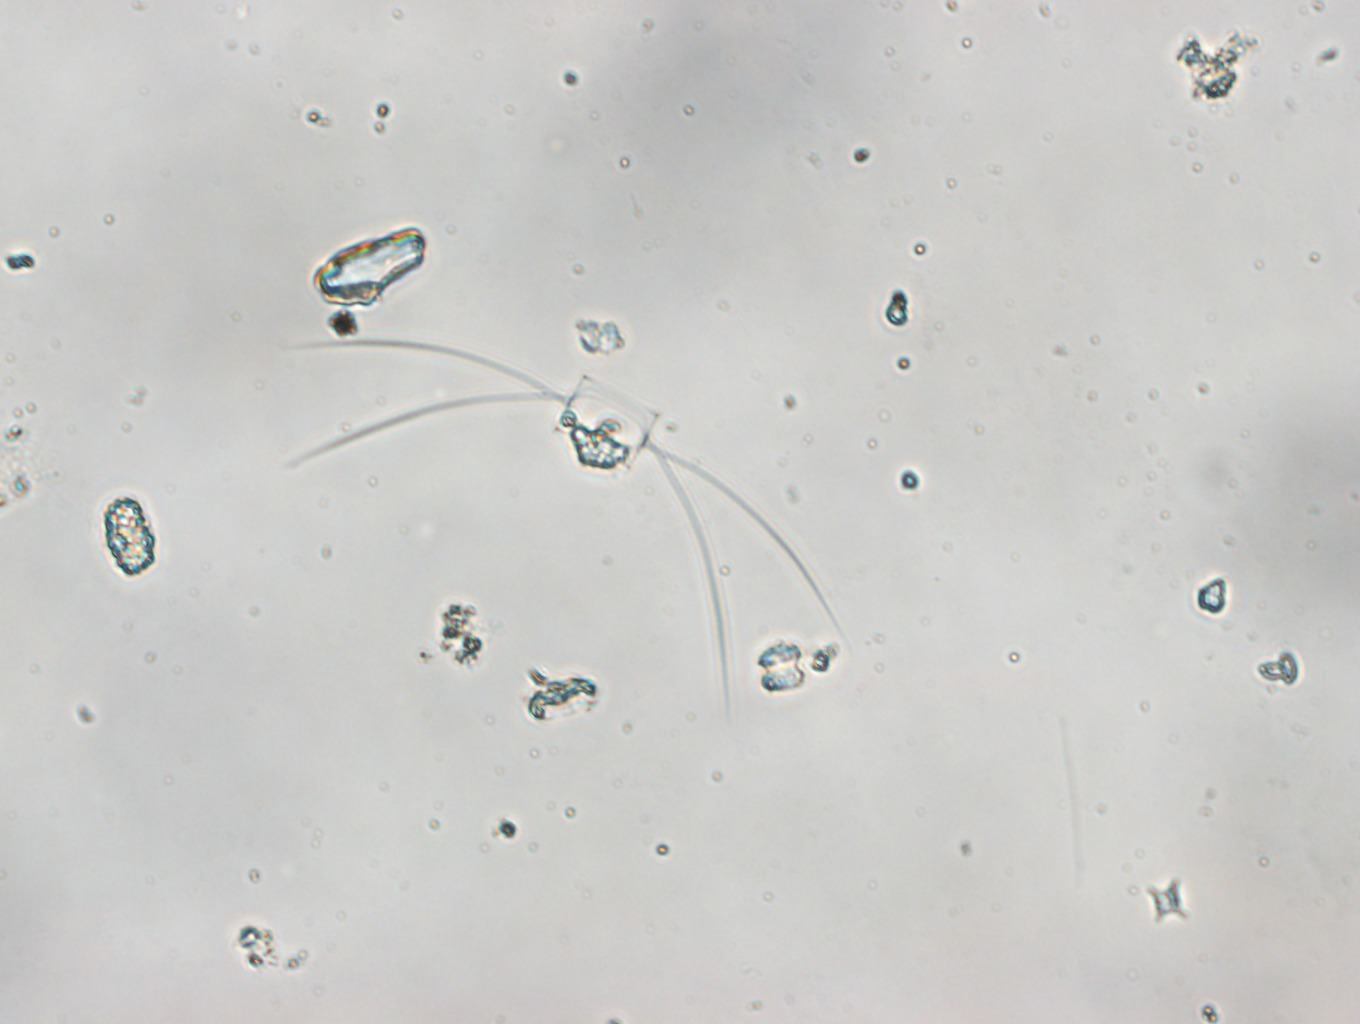chaetoceros: (273, 337, 847, 727)
